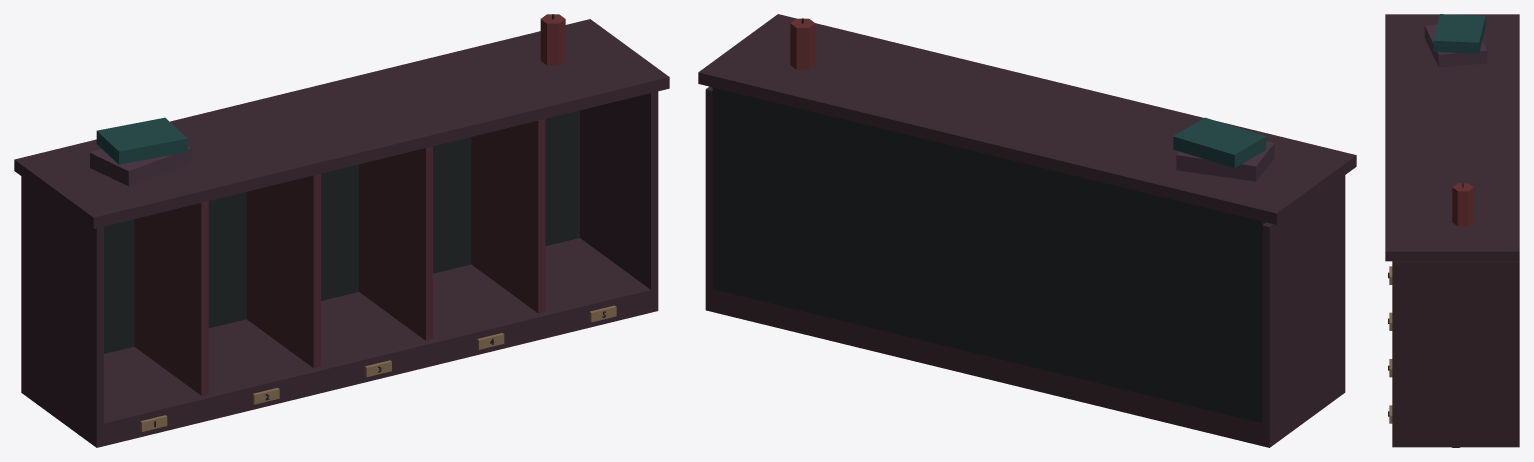
The model's file is raft_depozit.glb.
3 views of the same model, side by side, from view 1: azimuth 30°, elevation 25°; view 2: azimuth 150°, elevation 25°; view 3: azimuth 270°, elevation 25° (orthographic). The views are drawn at different scales.
Visible parts, largest first — view 1: RaftDepozit; view 2: RaftDepozit; view 3: RaftDepozit.
Part boxes in pixels (x1,y1,x2,y2): RaftDepozit: (14, 14, 669, 447); RaftDepozit: (698, 14, 1356, 447); RaftDepozit: (1385, 14, 1519, 447).
Size of the model in its own units: 1.59 by 0.762 by 0.38.
